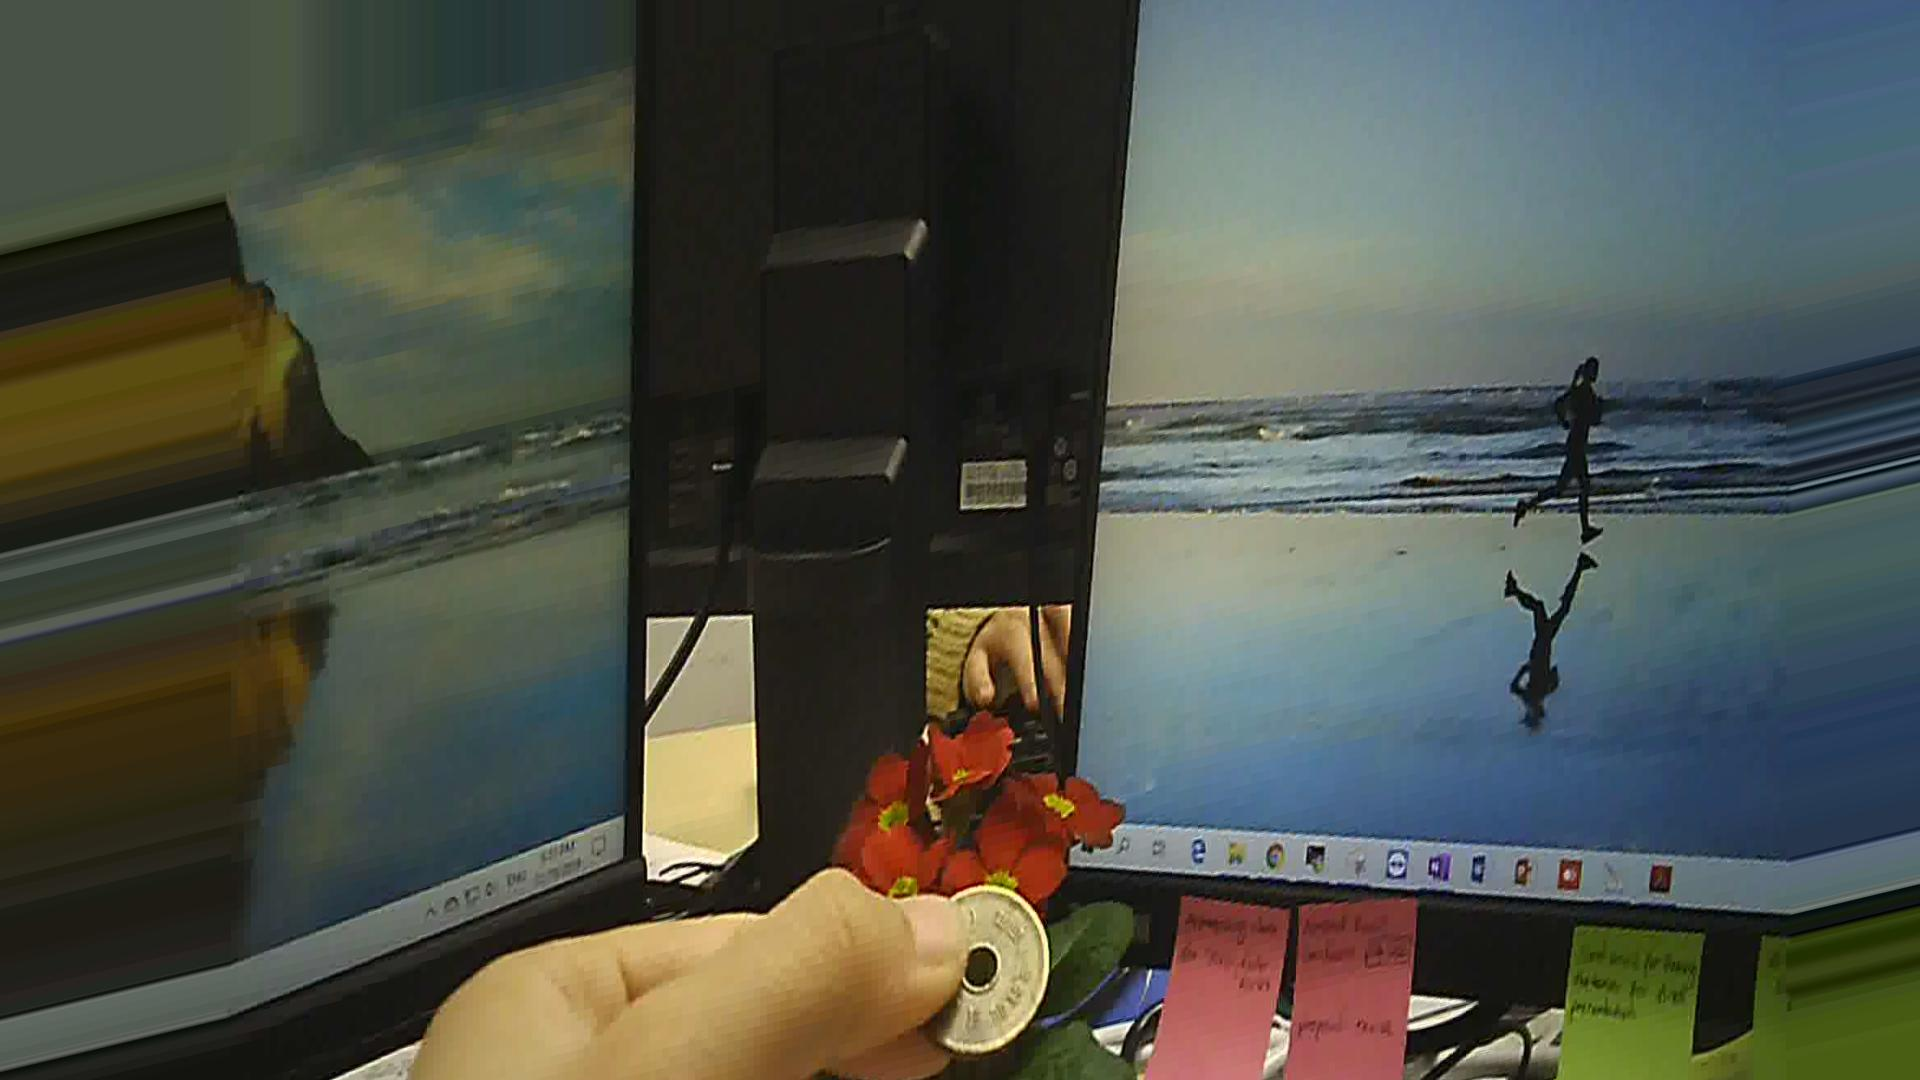5 Yen: (913, 881, 1040, 1054)
